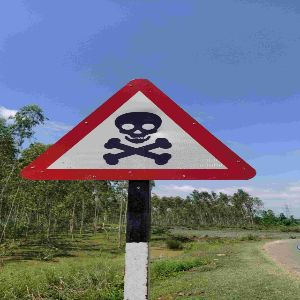Accident prone area: (14, 72, 263, 196)
